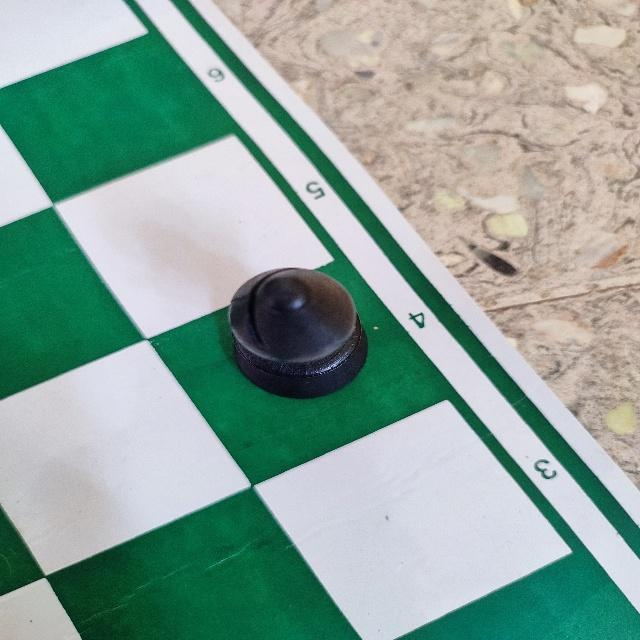Bishop: (224, 262, 371, 402)
